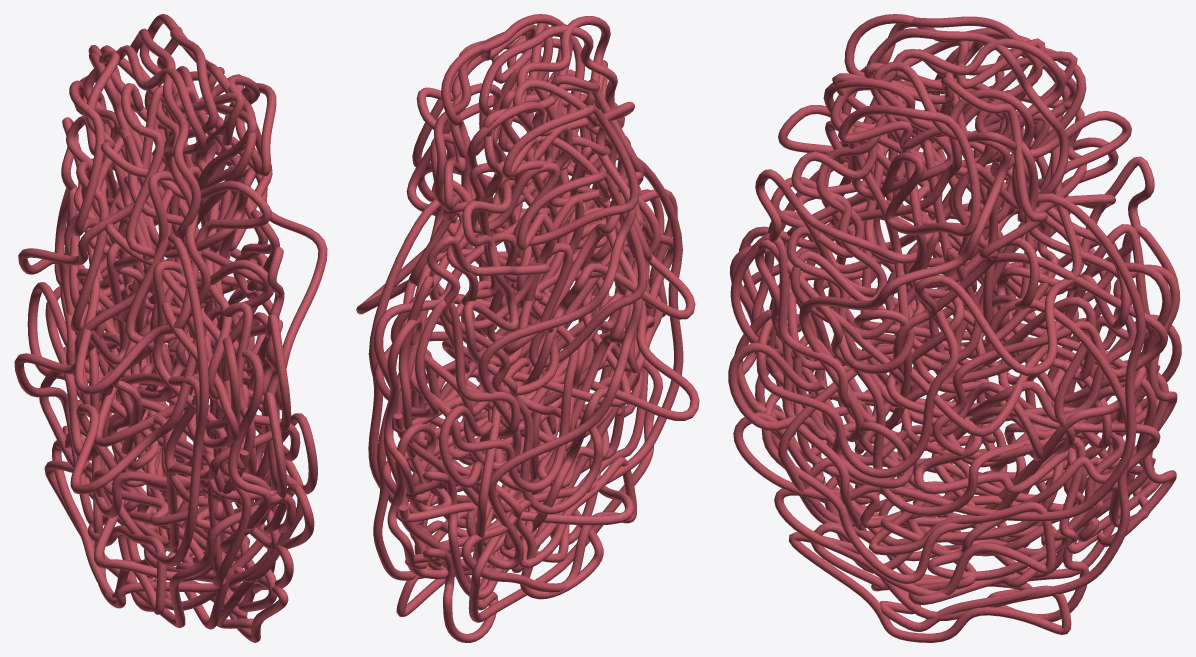
The model's file is Tubulus Semifernus.glb.
The picture shows the model from 3 angles, left to right: view 1: azimuth 30°, elevation 25°; view 2: azimuth 150°, elevation 25°; view 3: azimuth 270°, elevation 25°; orthographic projection. The views are drawn at different scales.
Parts seen in each view (by area): view 1: BezierCurve.001, BezierCurve.002, BezierCurve; view 2: BezierCurve.001, BezierCurve, BezierCurve.002; view 3: BezierCurve, BezierCurve.002, BezierCurve.001.
Part boxes in pixels (bbox=[...]): BezierCurve.001: bbox=[27, 27, 327, 629]; BezierCurve.002: bbox=[14, 66, 314, 642]; BezierCurve: bbox=[18, 14, 317, 595]; BezierCurve.001: bbox=[356, 14, 683, 592]; BezierCurve: bbox=[368, 23, 695, 599]; BezierCurve.002: bbox=[373, 79, 699, 642]; BezierCurve: bbox=[728, 16, 1180, 595]; BezierCurve.002: bbox=[733, 78, 1176, 642]; BezierCurve.001: bbox=[729, 14, 1181, 573].
Size of the model in its own units: 0.7886 by 1.69 by 1.17.
1 material, 1 textured.
